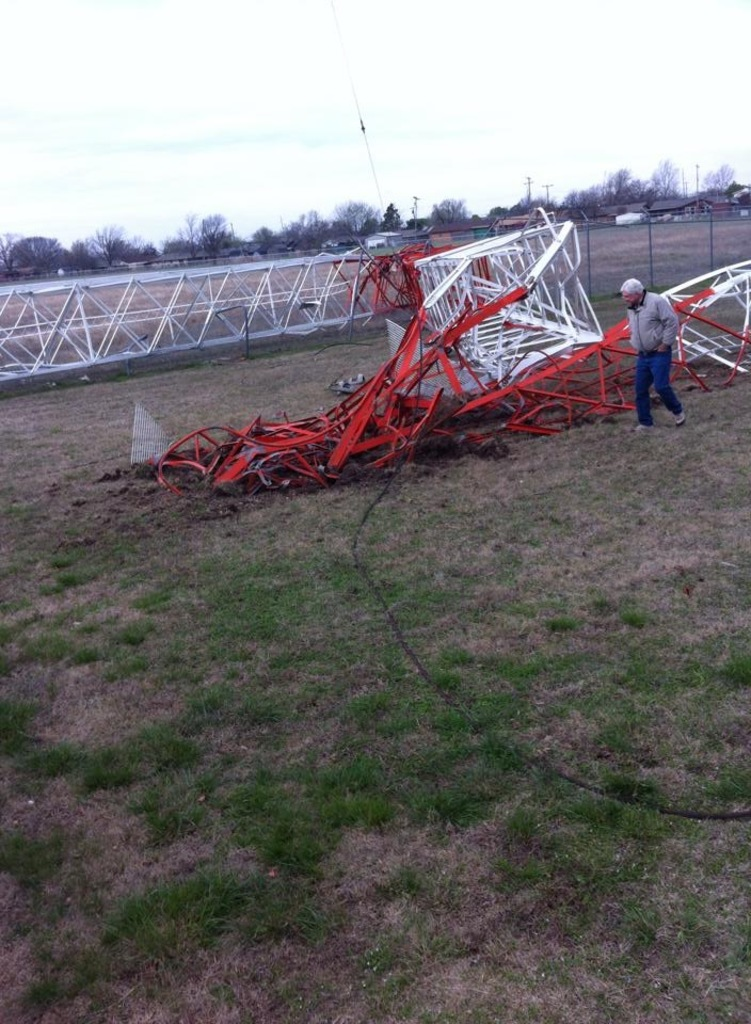Person: (619, 278, 685, 430)
